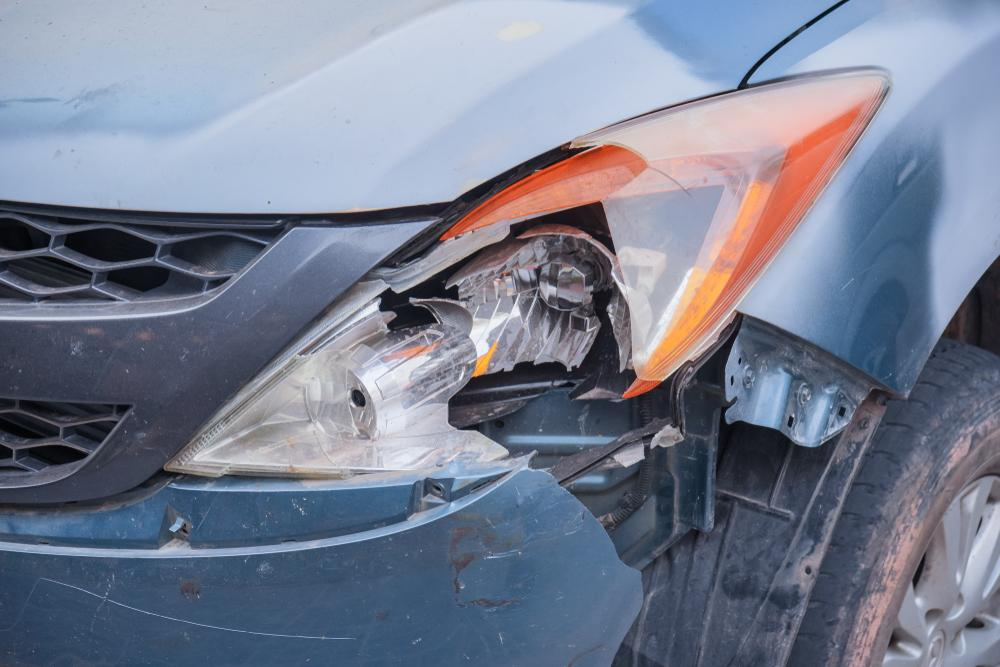lamp broken: (162, 70, 889, 478)
scratch: (443, 506, 536, 612)
